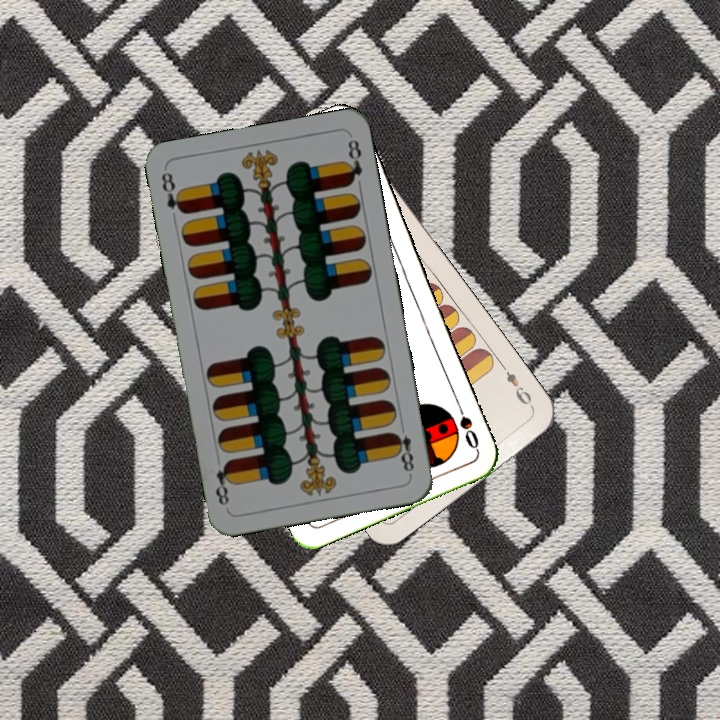E8: (157, 168, 188, 225), (389, 419, 417, 478)
E9: (497, 360, 537, 412)
SO: (451, 396, 482, 452)
